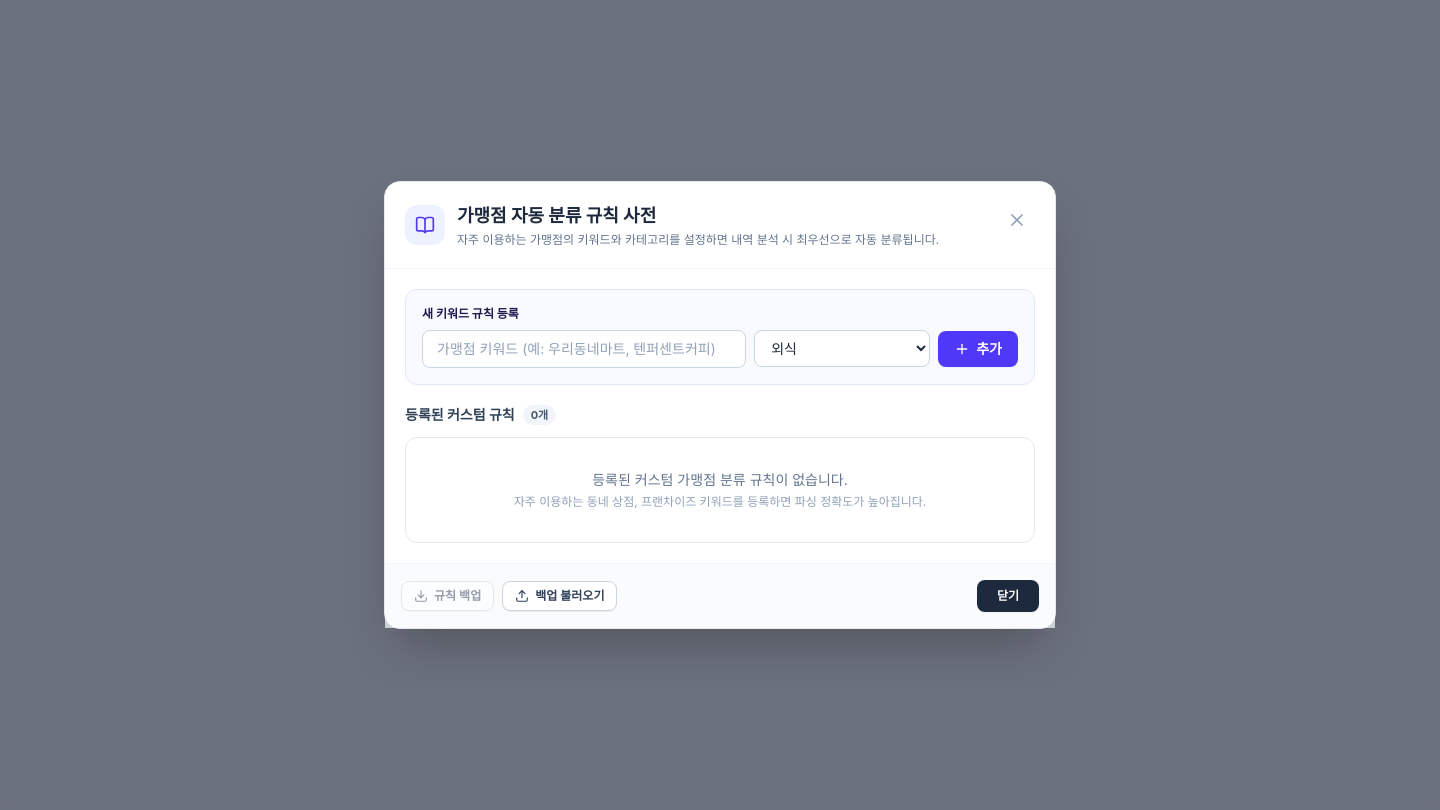
Scenario: MerchantRulesModal 컴포넌트 단위 및 인터랙션 테스트 › 키워드가 비어 있으면 유효성 검사 에러 메시지가 표시되어야 한다
This screenshot has width=1440, height=810.
Click the button "추가": [978, 349] box [938,331,1018,367]
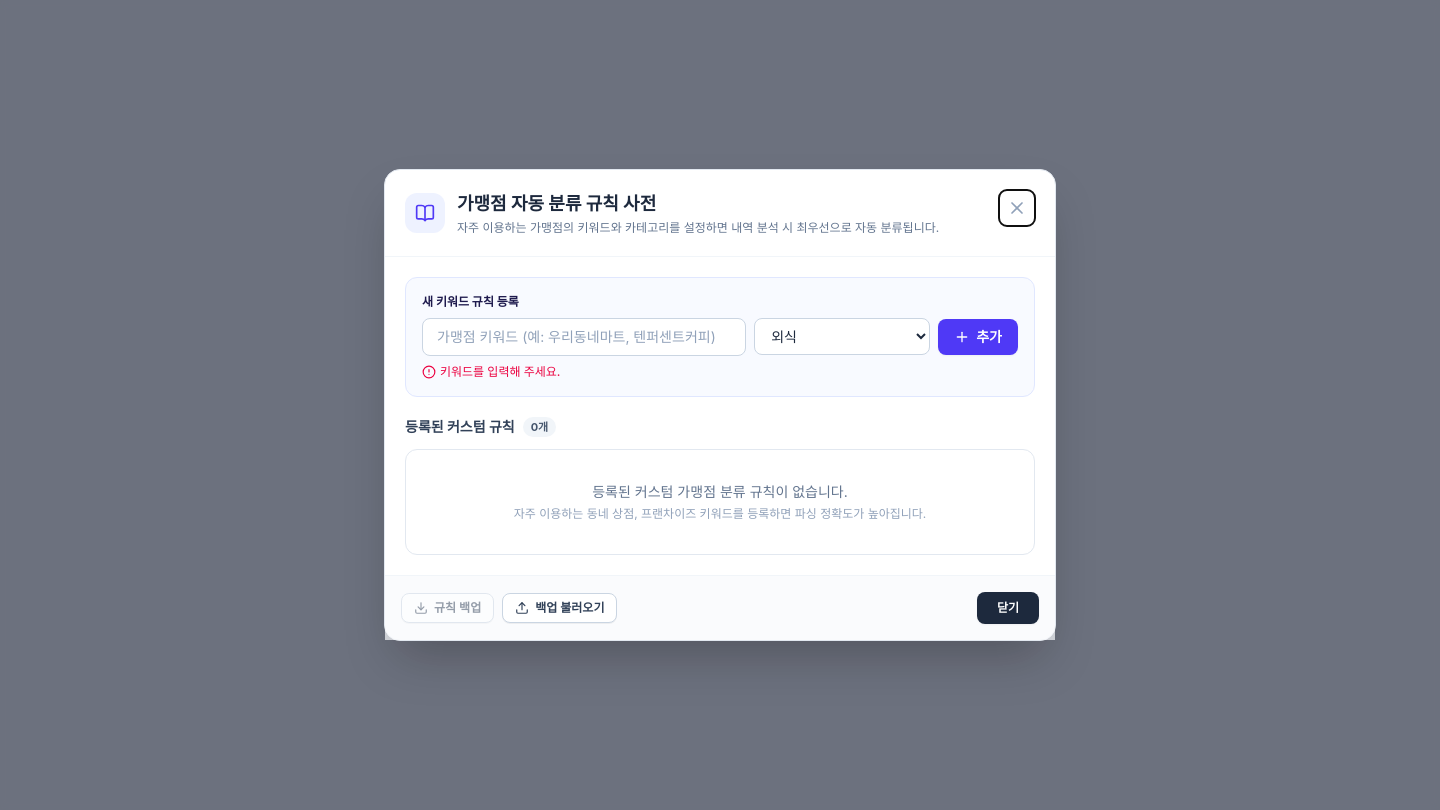
Now the text "키워드를 입력해 주세요." is shown, box [422,364,560,379]
